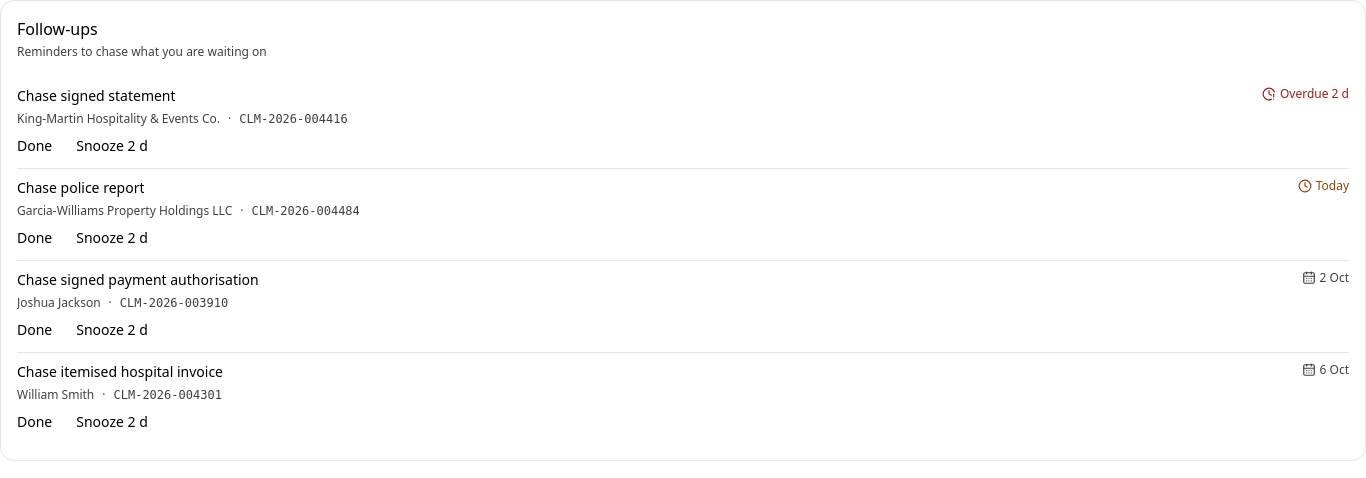
it: FollowUpList › Snooze › moves the date on and re-sorts: today becomes 1 Oct, ahead of 2 Oct
The width and height of the screenshot is (1366, 478).
Click the button "Snooze 2 d" below "Chase police report": x=112, y=238 [66,224,158,252]
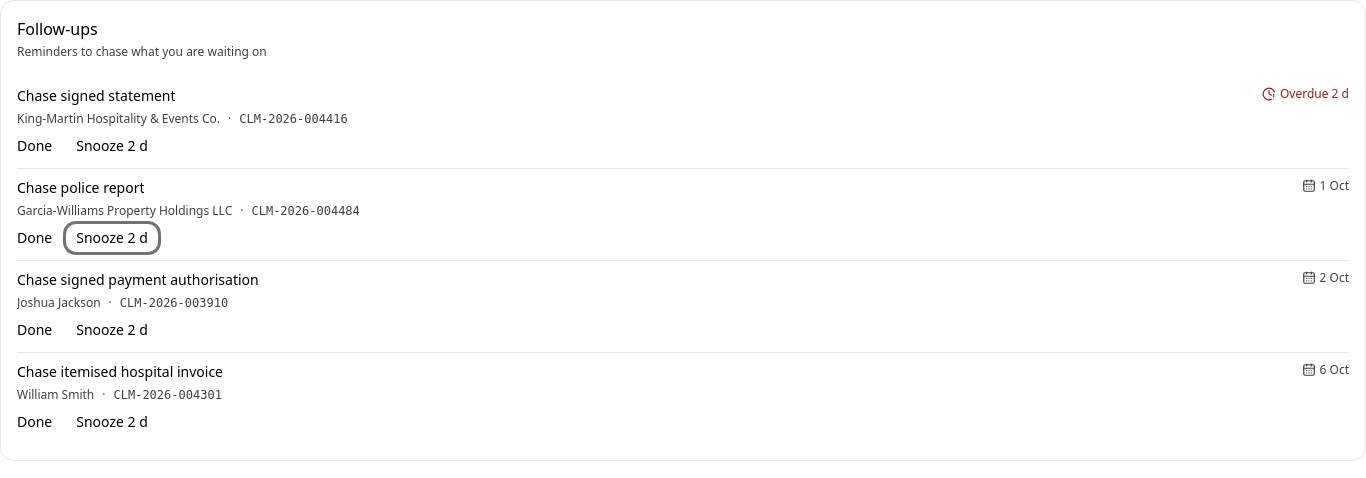
Check: the list item that starts with "Chase police report" shows "1 Oct", box [1320,177,1349,194]
Check: the list item "Today" no longer shows "Today"
